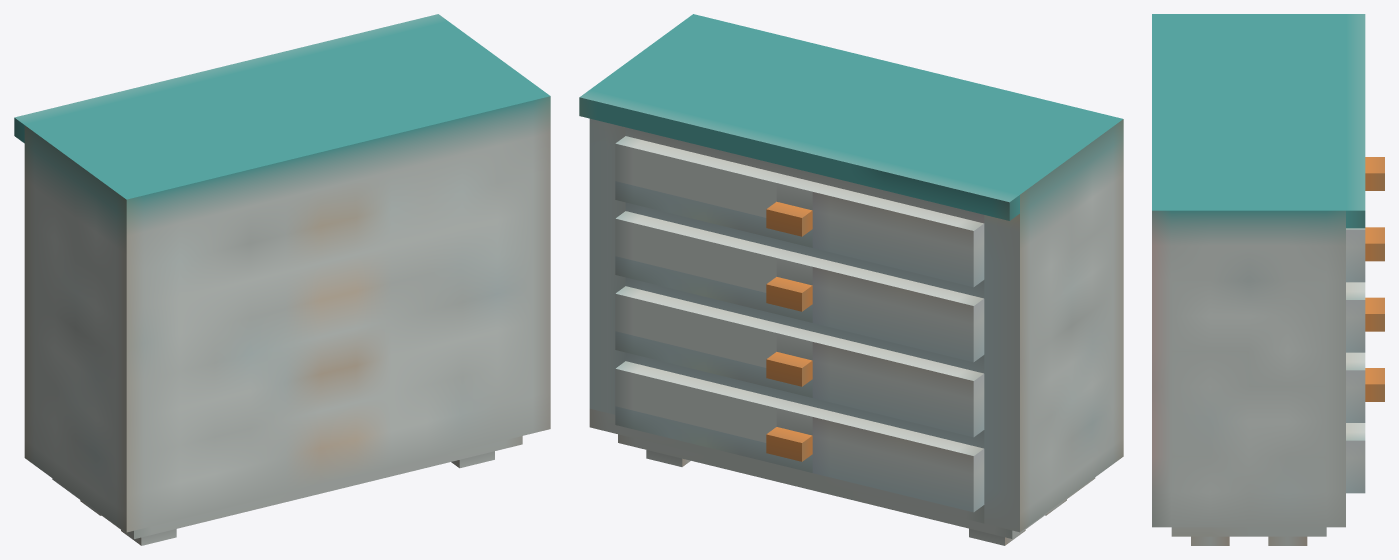
Rendered from DresserWhite_00.obj.
3 views of the same model, side by side, from view 1: azimuth 30°, elevation 25°; view 2: azimuth 150°, elevation 25°; view 3: azimuth 270°, elevation 25° (orthographic). The views are drawn at different scales.
Visible parts, largest first — view 1: DresserWhite_00; view 2: DresserWhite_00; view 3: DresserWhite_00.
Part boxes in pixels (x1,y1,x2,y2): DresserWhite_00: (14, 14, 550, 545); DresserWhite_00: (579, 14, 1123, 545); DresserWhite_00: (1152, 14, 1384, 545).
Size of the model in its own units: 1.2 by 1 by 0.6.
